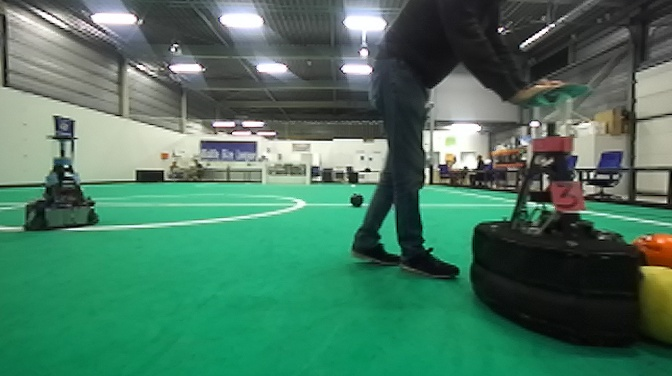ball: (637, 262, 672, 348), (631, 228, 672, 267), (345, 193, 367, 211)
goal: (260, 159, 312, 188)
goalpost: (260, 159, 268, 185), (305, 162, 311, 185)
human: (347, 1, 571, 284)
robot: (464, 80, 644, 353), (20, 113, 102, 236)
